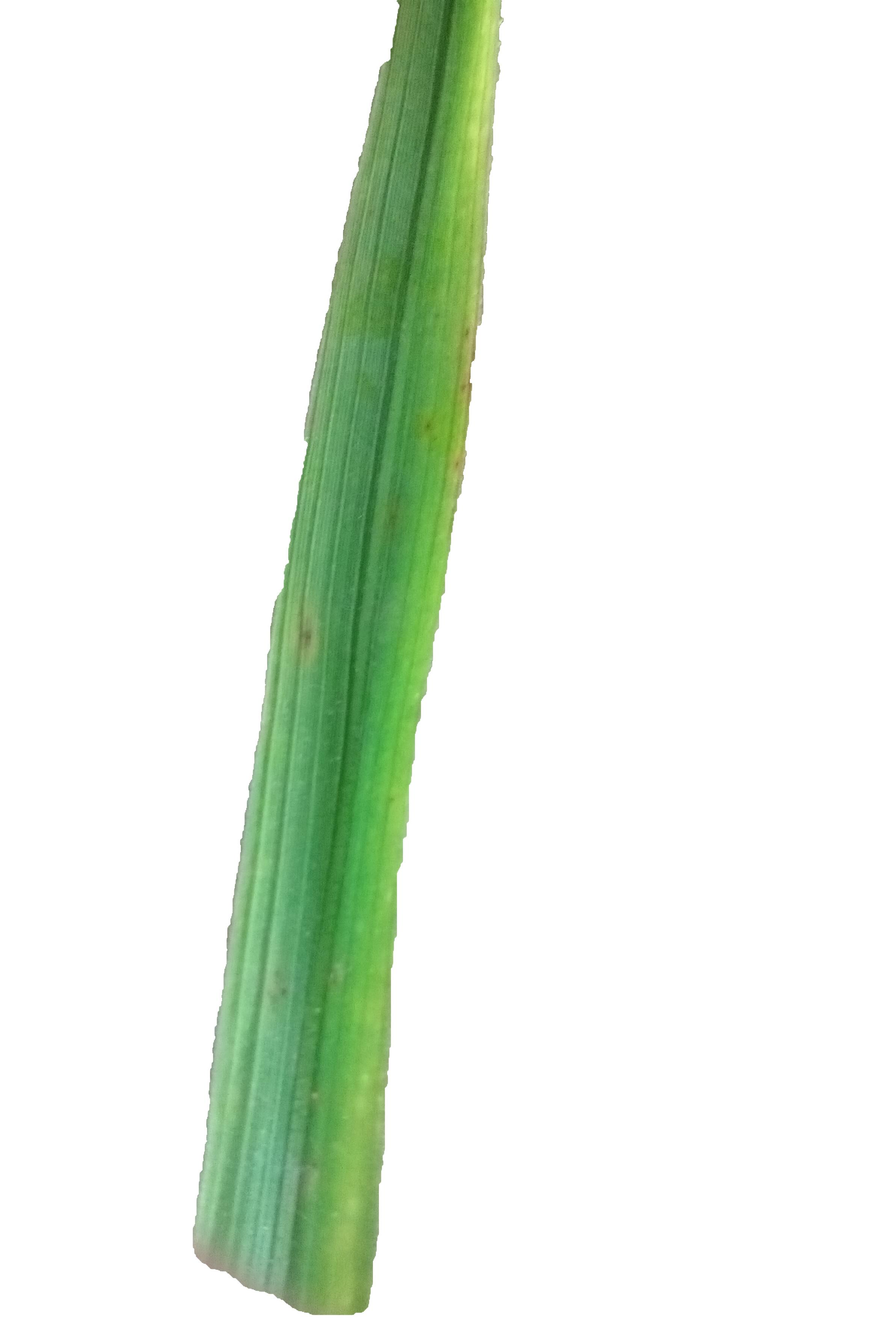Tungro: (282, 8, 503, 1308)
